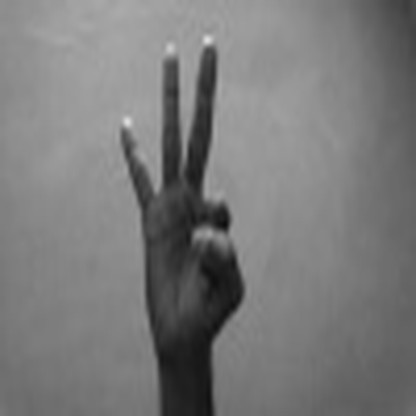f: (115, 36, 251, 327)
